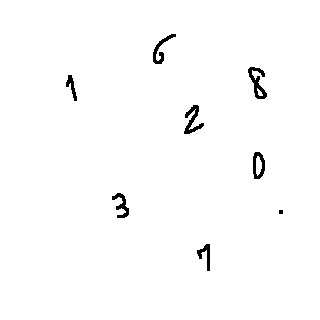.: (274, 201, 293, 226)
0: (242, 143, 274, 190)
1: (58, 69, 90, 110)
2: (174, 100, 212, 146)
3: (109, 188, 134, 224)
6: (139, 28, 189, 72)
7: (189, 232, 216, 287)
8: (240, 59, 279, 105)
